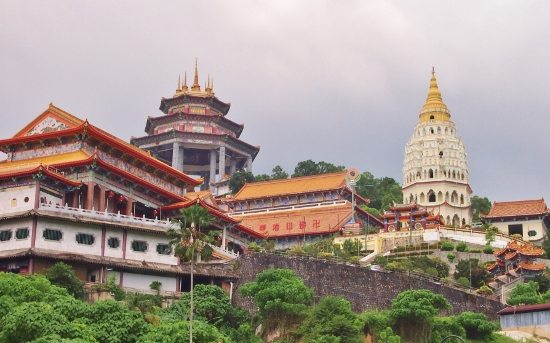Buddhist Temple: (1, 68, 479, 249)
